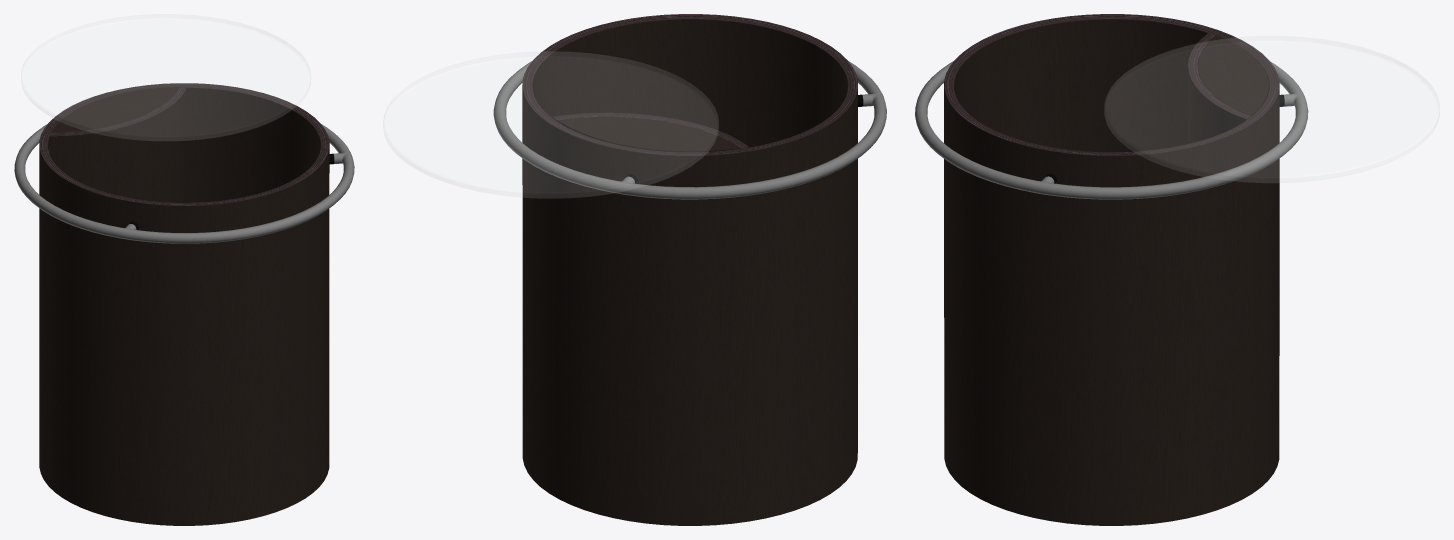
File: ligne_roset_comodino_bar_fbx_upZ.fbx
The picture shows the model from 3 angles, left to right: view 1: azimuth 30°, elevation 25°; view 2: azimuth 150°, elevation 25°; view 3: azimuth 270°, elevation 25°; orthographic projection. The views are drawn at different scales.
Visible parts, largest first — view 1: ligne_roset_comodino_bar; view 2: ligne_roset_comodino_bar; view 3: ligne_roset_comodino_bar.
Boxes of the visible parts, x1=… form: ligne_roset_comodino_bar: x1=14, y1=14, x2=354, y2=525; ligne_roset_comodino_bar: x1=383, y1=14, x2=886, y2=525; ligne_roset_comodino_bar: x1=915, y1=14, x2=1439, y2=525.
Bounding box in the file's own units: 59.21 × 71.87 × 57.06.
